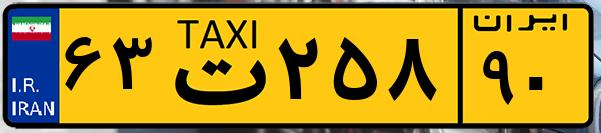0: (525, 38, 570, 115)
2: (270, 28, 330, 110)
3: (110, 28, 158, 98)
5: (330, 28, 385, 110)
6: (57, 26, 110, 100)
8: (385, 28, 445, 110)
9: (475, 38, 525, 113)
ت: (158, 12, 270, 120)
